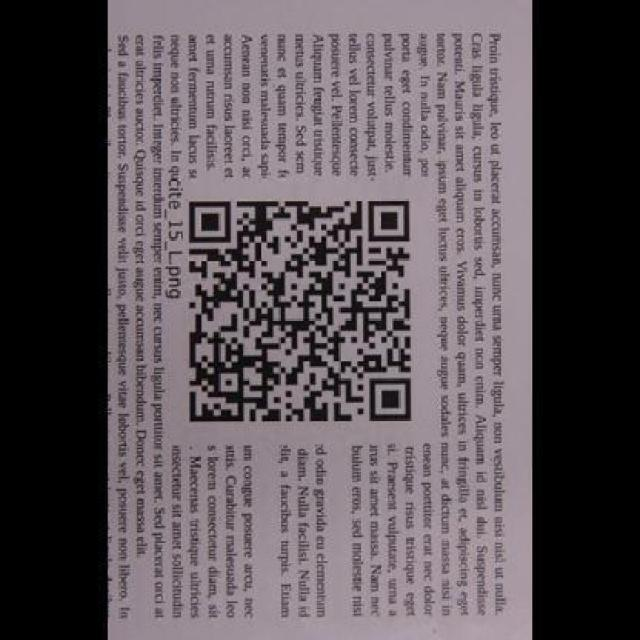QRCode: (182, 193, 420, 430)
